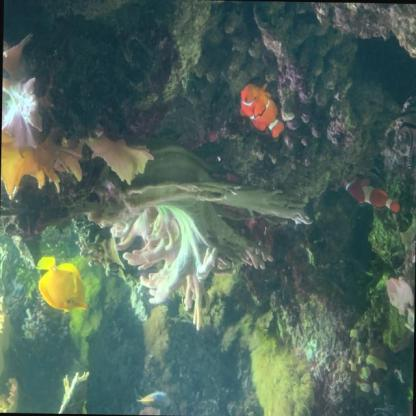fish: (35, 254, 89, 313), (236, 80, 287, 138), (341, 172, 403, 214), (133, 386, 173, 412)
